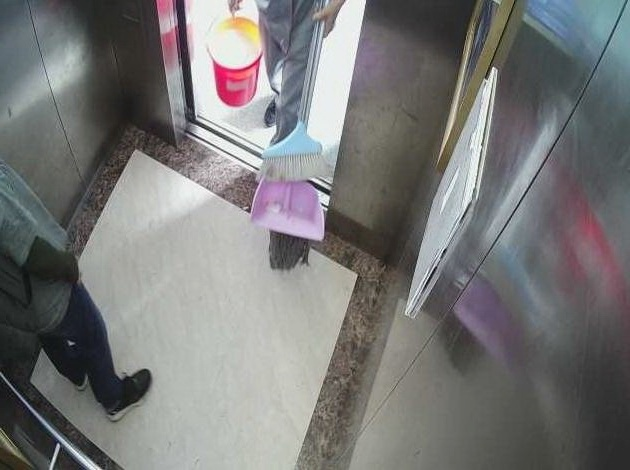broom: (255, 116, 333, 184)
bucket: (204, 11, 263, 119)
